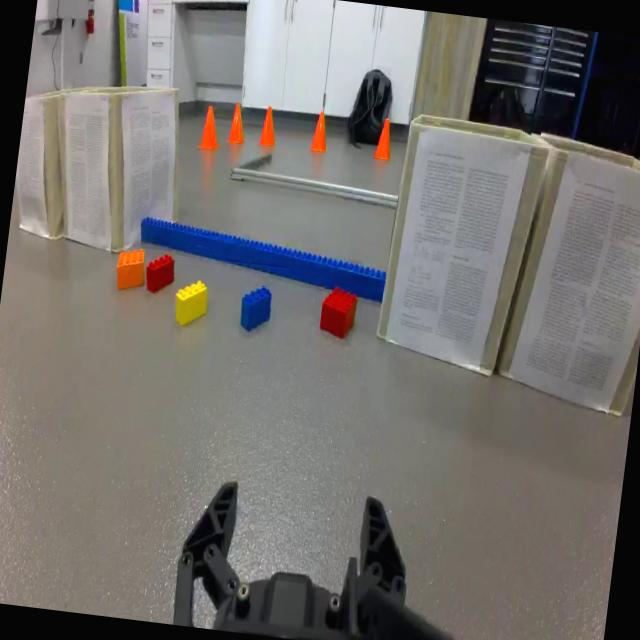block: (170, 276, 212, 334)
blue: (235, 278, 275, 339)
cone: (193, 101, 226, 159), (370, 112, 398, 166), (223, 100, 250, 154), (307, 104, 333, 160), (254, 102, 282, 148)
metal barrier: (229, 149, 399, 210)
orange: (108, 244, 150, 298)
red goal: (318, 284, 360, 344), (142, 249, 178, 295)
river: (139, 215, 386, 303)
storage cube: (376, 112, 548, 377), (496, 134, 640, 418), (57, 87, 180, 252), (15, 96, 65, 237)
